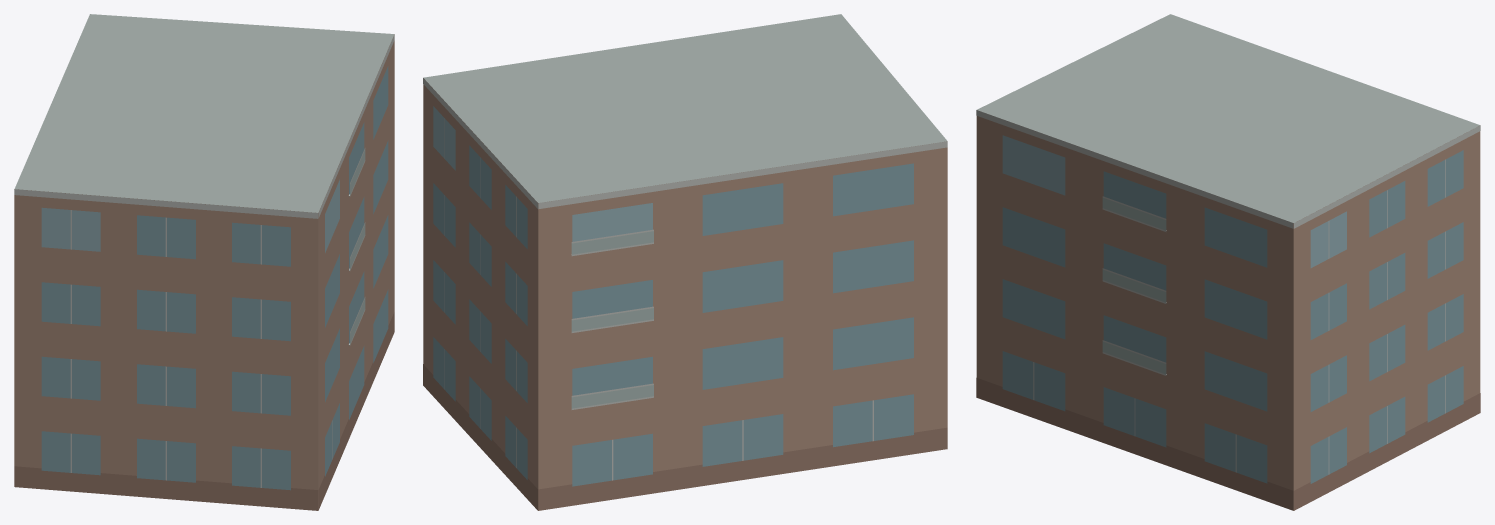
The model's file is survey-upis-32886982.glb.
The picture shows the model from 3 angles, left to right: view 1: azimuth 30°, elevation 25°; view 2: azimuth 150°, elevation 25°; view 3: azimuth 270°, elevation 25°; orthographic projection. The views are drawn at different scales.
Visible parts, largest first — view 1: survey-upis-32886982.tmp; view 2: survey-upis-32886982.tmp; view 3: survey-upis-32886982.tmp.
Boxes of the visible parts, x1,y1,x2,y2 form: survey-upis-32886982.tmp: [14, 14, 394, 510]; survey-upis-32886982.tmp: [423, 14, 947, 510]; survey-upis-32886982.tmp: [976, 14, 1480, 510].
Bounding box in the file's own units: 19.03 × 12.2 × 19.38.
